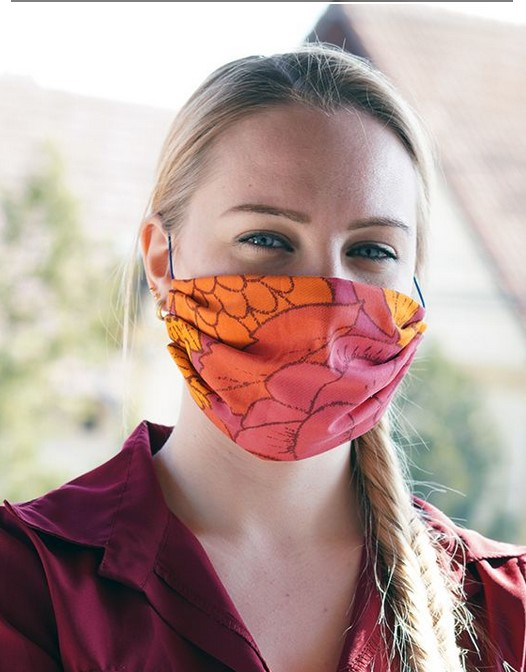face_with_mask: (138, 47, 438, 472)
